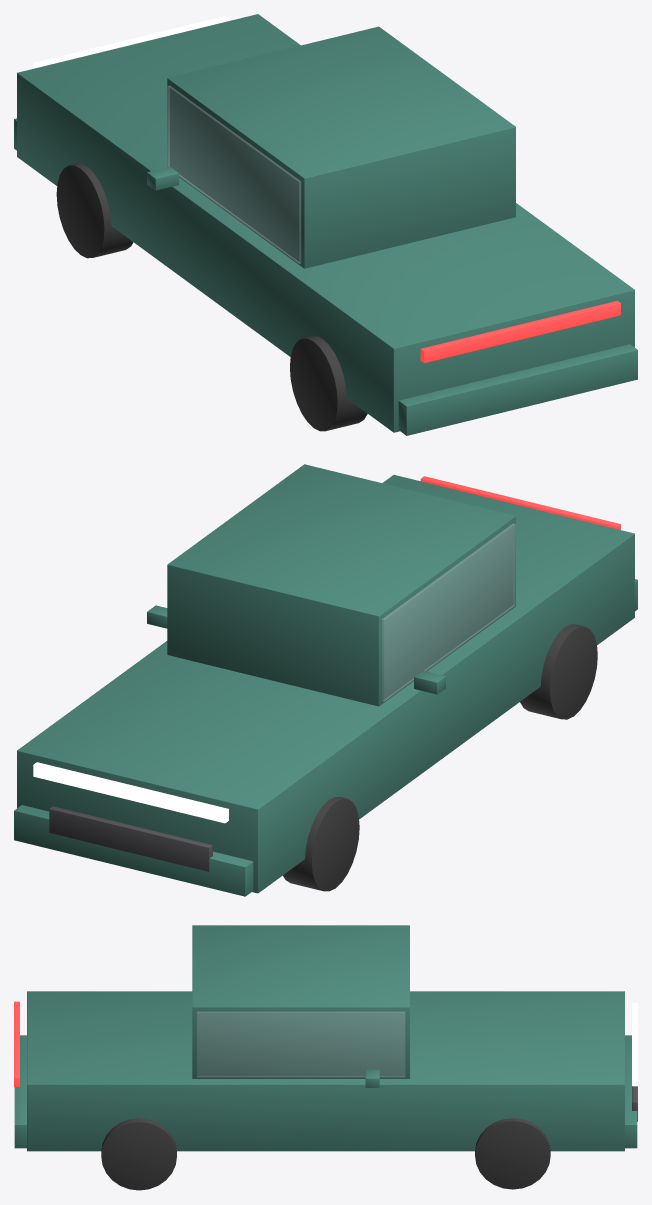
Rendered from vehicle.glb.
The picture shows the model from 3 angles, top to bottom: view 1: azimuth 30°, elevation 25°; view 2: azimuth 150°, elevation 25°; view 3: azimuth 270°, elevation 25°; orthographic projection. The views are drawn at different scales.
Visible parts, largest first — view 1: BODY_Main, BODY_Roof, GLASS_Greenhouse, BODY_Bumpers_Rear, WHEEL_RR_Tire, WHEEL_FR_Tire, LIGHT_Taillights, LIGHT_Headlights, BODY_Mirror_R; view 2: BODY_Main, BODY_Roof, GLASS_Greenhouse, BODY_Bumpers_Front, WHEEL_RR_Tire, BODY_Grille, WHEEL_FR_Tire, LIGHT_Headlights, LIGHT_Taillights, BODY_Mirror_R; view 3: BODY_Main, BODY_Roof, GLASS_Greenhouse, WHEEL_RL_Tire, WHEEL_FL_Tire, BODY_Bumpers_Rear, BODY_Bumpers_Front, LIGHT_Taillights, LIGHT_Headlights.
Part boxes in pixels (<box>): BODY_Main: <box>17,14,634,432</box>; BODY_Roof: <box>167,26,515,268</box>; GLASS_Greenhouse: <box>167,86,300,263</box>; BODY_Bumpers_Rear: <box>398,344,637,435</box>; WHEEL_RR_Tire: <box>290,336,367,431</box>; WHEEL_FR_Tire: <box>56,163,133,258</box>; LIGHT_Taillights: <box>420,300,620,363</box>; LIGHT_Headlights: <box>33,16,228,68</box>; BODY_Mirror_R: <box>147,166,178,190</box>; BODY_Main: <box>17,475,634,893</box>; BODY_Roof: <box>167,464,515,706</box>; GLASS_Greenhouse: <box>382,523,515,701</box>; BODY_Bumpers_Front: <box>14,805,253,896</box>; WHEEL_RR_Tire: <box>520,624,597,719</box>; BODY_Grille: <box>49,806,212,871</box>; WHEEL_FR_Tire: <box>283,797,359,891</box>; LIGHT_Headlights: <box>33,762,228,823</box>; LIGHT_Taillights: <box>420,476,620,529</box>; BODY_Mirror_R: <box>414,670,445,694</box>; BODY_Main: <box>27,991,624,1151</box>; BODY_Roof: <box>192,925,409,1078</box>; GLASS_Greenhouse: <box>197,1012,404,1077</box>; WHEEL_RL_Tire: <box>101,1118,176,1190</box>; WHEEL_FL_Tire: <box>475,1118,550,1189</box>; BODY_Bumpers_Rear: <box>14,1035,26,1148</box>; BODY_Bumpers_Front: <box>625,1035,637,1148</box>; LIGHT_Taillights: <box>14,1001,19,1087</box>; LIGHT_Headlights: <box>632,1002,637,1086</box>.
Size of the model in its own units: 2.24 by 1.62 by 5.26.
